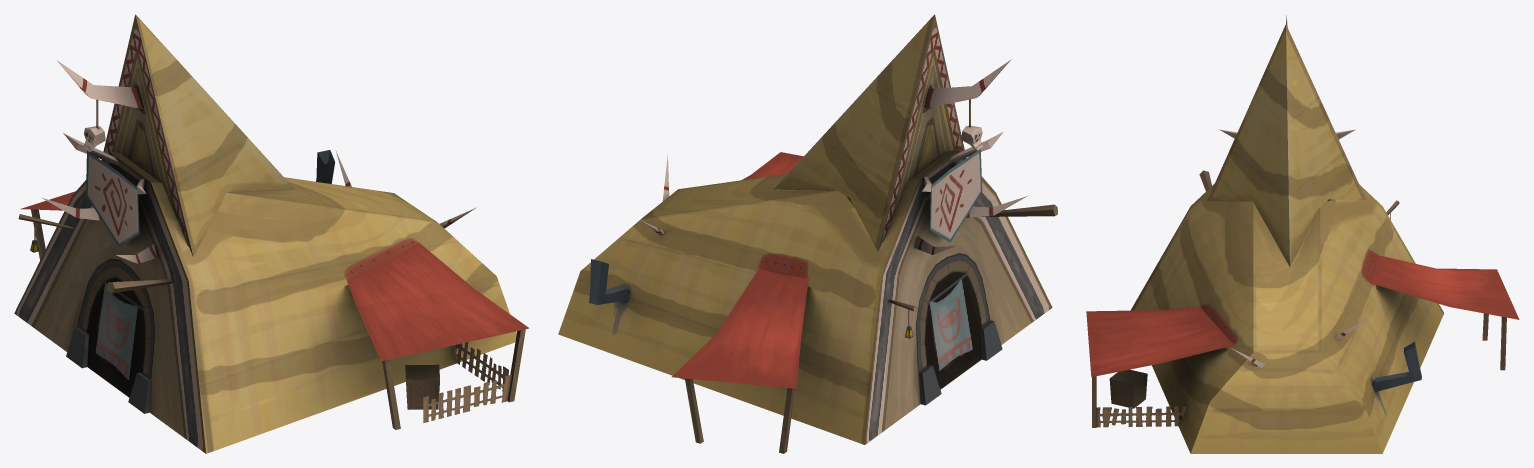
Rendered from hut.obj.
3 views of the same model, side by side, from view 1: azimuth 30°, elevation 25°; view 2: azimuth 150°, elevation 25°; view 3: azimuth 270°, elevation 25° (orthographic). The views are drawn at different scales.
Visible parts, largest first — view 1: BASE.001_Cube:001_Cube.001; view 2: BASE.001_Cube:001_Cube.001; view 3: BASE.001_Cube:001_Cube.001.
Boxes of the visible parts, <box> form: BASE.001_Cube:001_Cube.001: <box>14,14,529,453</box>; BASE.001_Cube:001_Cube.001: <box>558,14,1057,453</box>; BASE.001_Cube:001_Cube.001: <box>1086,15,1519,453</box>.
Bounding box in the file's own units: 4.01 × 3.47 × 4.51.
